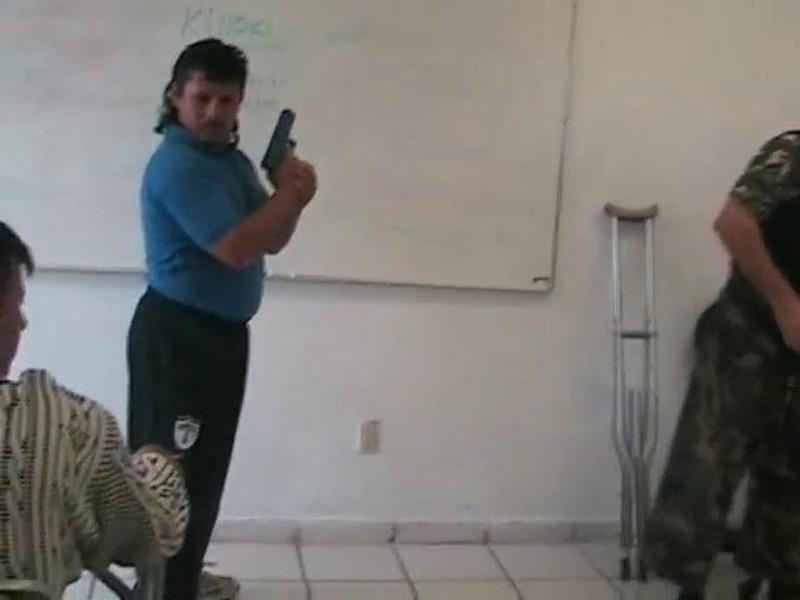Pistola: (250, 107, 313, 197)
